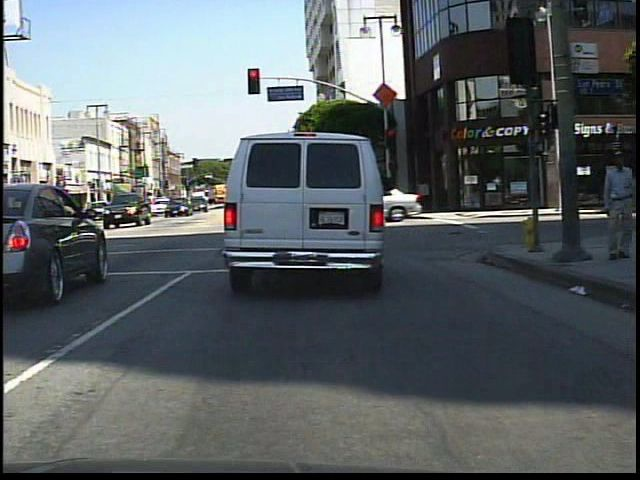person: (598, 146, 635, 264)
